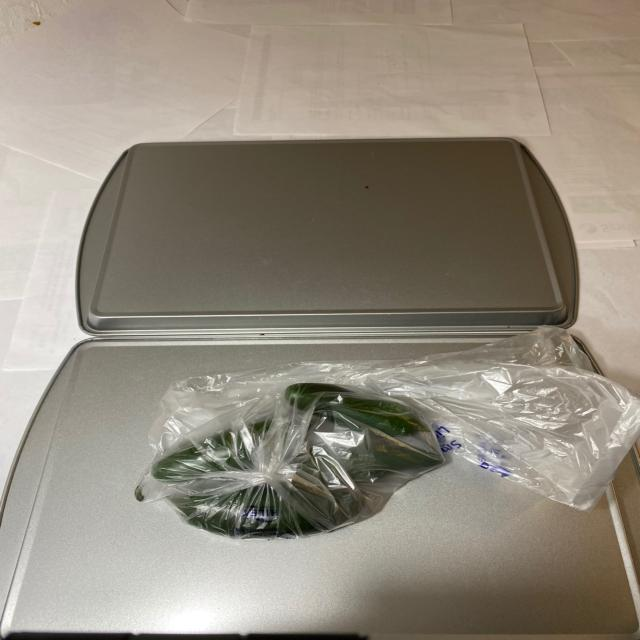chilli: (123, 375, 460, 534)
